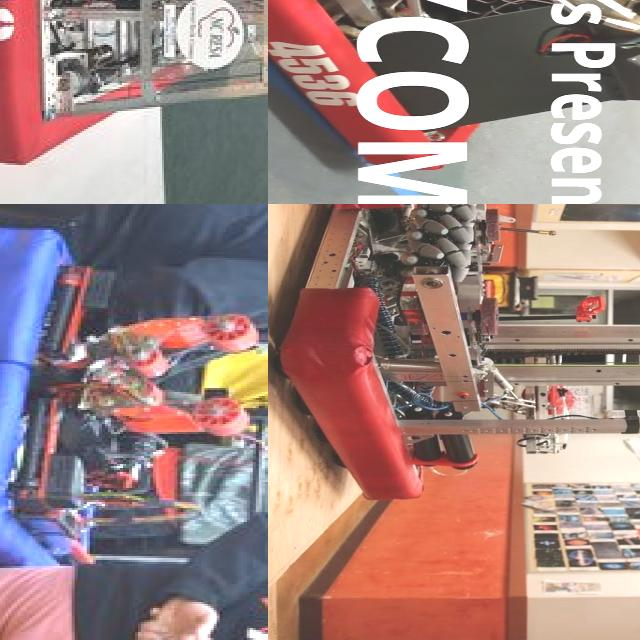FRC-Robots: (273, 204, 640, 507), (0, 230, 268, 574), (268, 0, 640, 181), (0, 0, 268, 204)
